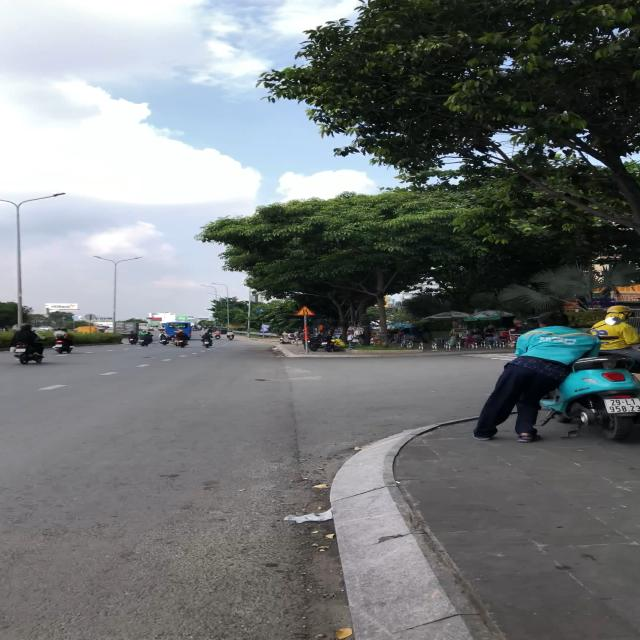Bien bao duong bi thu hep: (293, 306, 318, 316)
